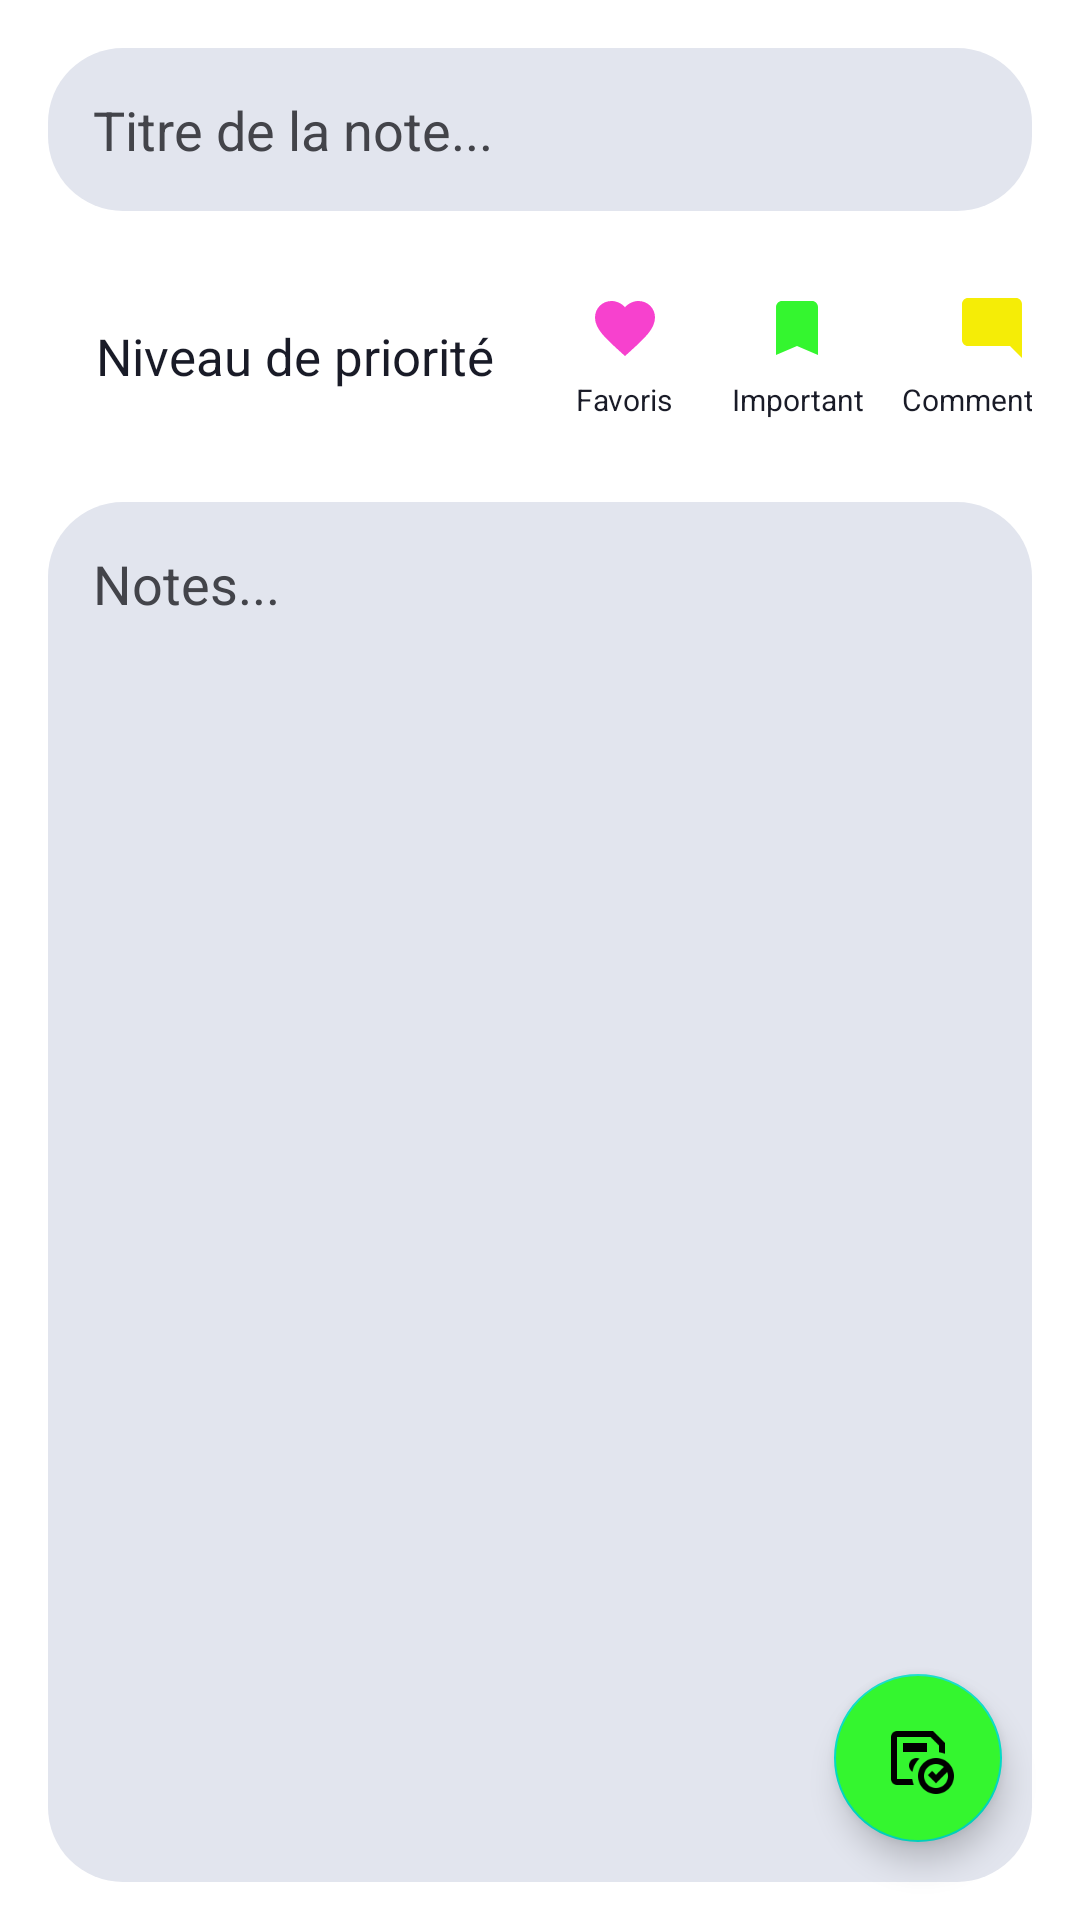

Screen size 1080w x 1920h. Icon name, then its box in pixels as detection(x1, y1, x2, y2):
turned in: detection(776, 301, 818, 355)
